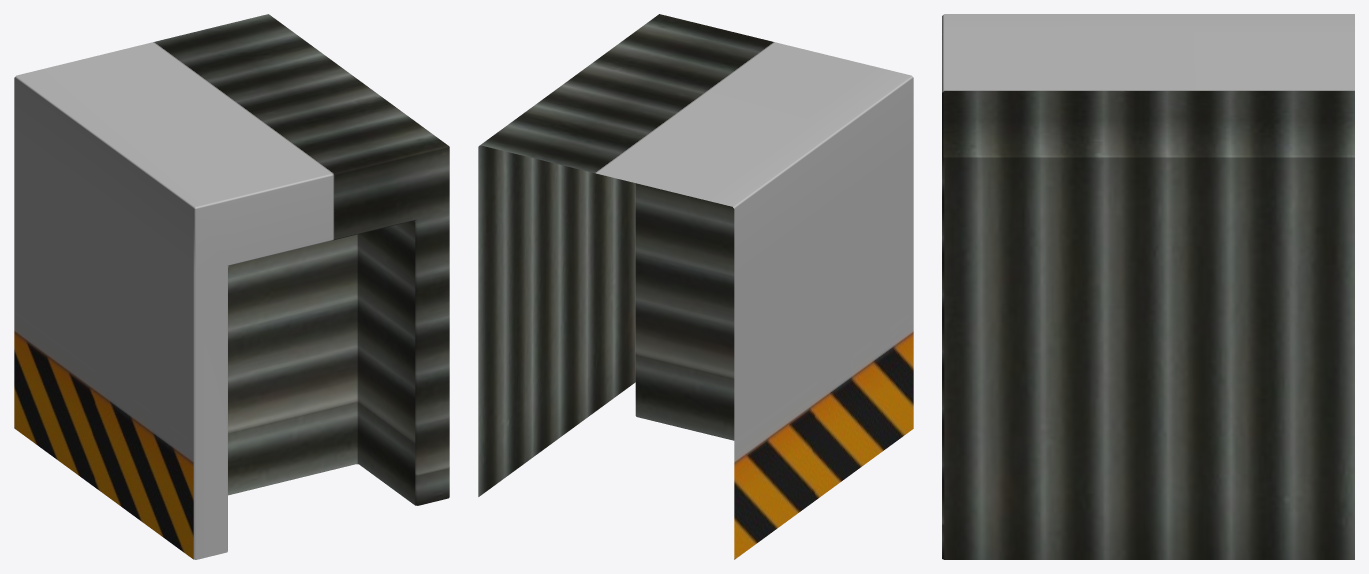
File: Paper Conveyor.fbx
The picture shows the model from 3 angles, left to right: view 1: azimuth 30°, elevation 25°; view 2: azimuth 150°, elevation 25°; view 3: azimuth 270°, elevation 25°; orthographic projection. The views are drawn at different scales.
Visible parts, largest first — view 1: Paper Conveyor; view 2: Paper Conveyor; view 3: Paper Conveyor.
Boxes of the visible parts, box(x1,y1,x2,y2) form: Paper Conveyor: box(14, 14, 449, 559); Paper Conveyor: box(478, 14, 913, 559); Paper Conveyor: box(942, 14, 1354, 559).
Size of the model in its own units: 615 by 809 by 750.
